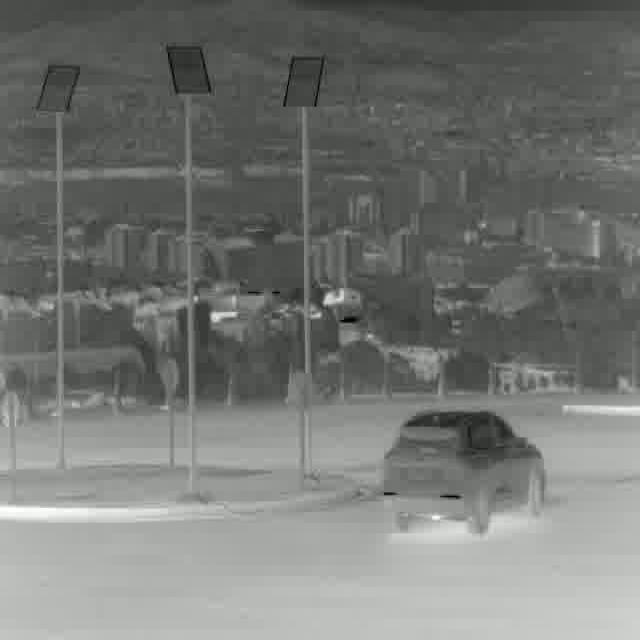Car: (379, 411, 545, 534)
